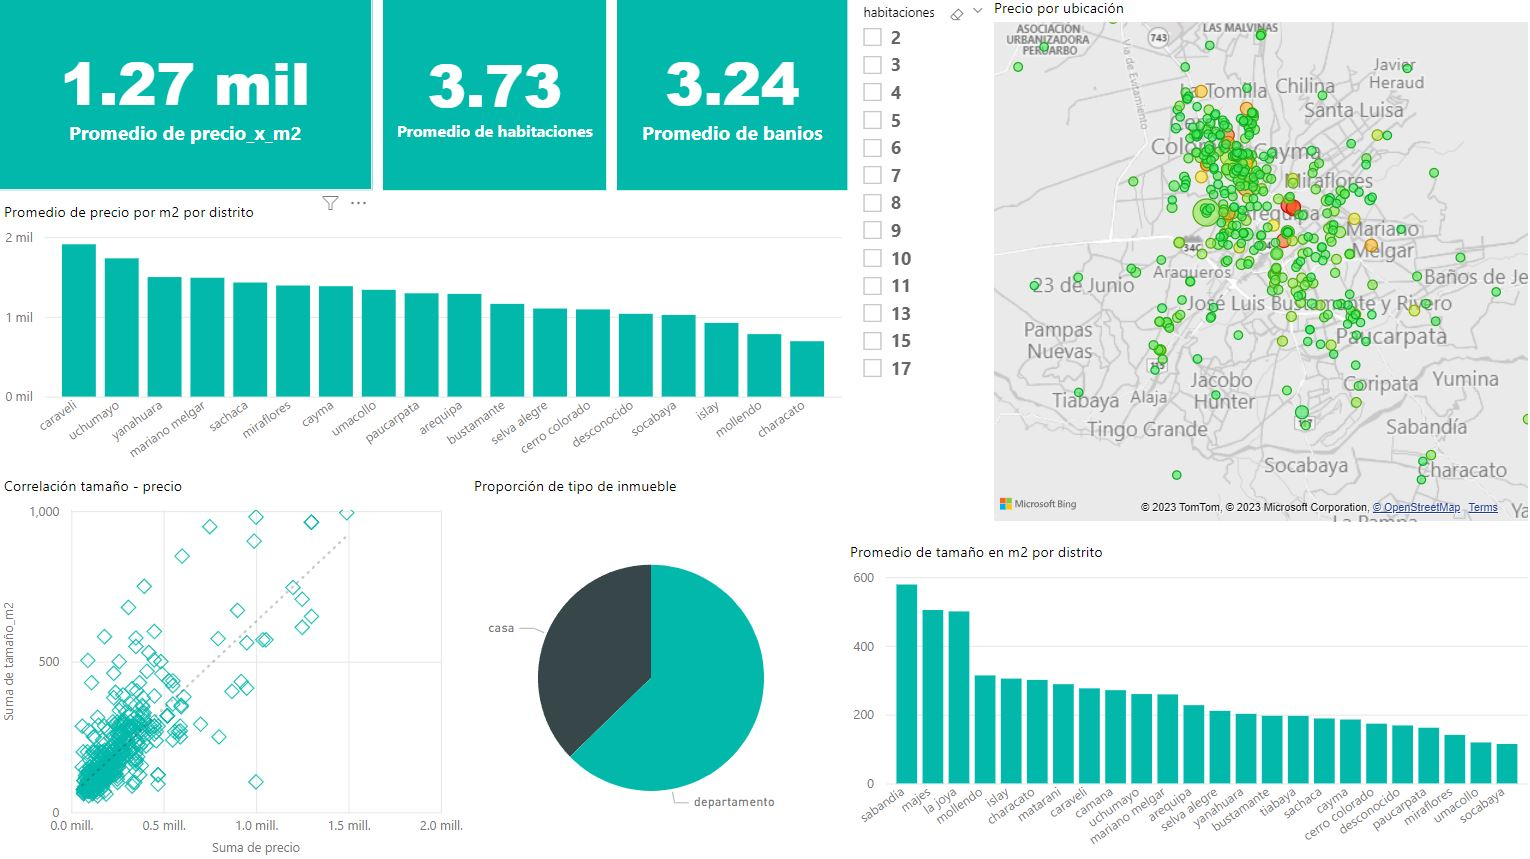

This screenshot's page, from the dashboard's own definition file:
{"tool":"powerbi","page":{"name":"Página 1","canvas":[1280,720],"ordinal":0},"visuals":[{"type":"map","title":"Precio por ubicación","fields":{"Y":["propiedades.latitud"],"X":["propiedades.longitud"],"Size":["Sum(propiedades.precio)"]},"box":[825,0,455,442],"z":0},{"type":"clusteredColumnChart","title":"Promedio de precio por m2 por distrito","fields":{"Category":["propiedades.distrito"],"Y":["Avg(propiedades.precio_x_m2)"]},"box":[0,170,708,228],"z":1000},{"type":"pieChart","title":"Proporción de tipo de inmueble","fields":{"Category":["propiedades.tipo_inmueble"],"Y":["CountNonNull(propiedades.Column1)"]},"box":[392,398,305,322],"z":2000},{"type":"card","fields":{"Values":["Avg(propiedades.precio_x_m2)"]},"box":[0,0,312,161],"z":3000},{"type":"clusteredColumnChart","title":"Promedio de tamaño en m2 por distrito","fields":{"Category":["propiedades.distrito"],"Y":["Avg(propiedades.tamaño_m2)"]},"box":[705,453,575,267],"z":4000},{"type":"scatterChart","title":"Correlación tamaño - precio","fields":{"Y":["Sum(propiedades.tamaño_m2)"],"X":["Sum(propiedades.precio)"],"Category":["propiedades.Column1"]},"box":[0,398,392,322],"z":4001},{"type":"card","fields":{"Values":["Avg(propiedades.habitaciones)"]},"box":[321,0,186,161],"z":4002},{"type":"card","fields":{"Values":["Avg(propiedades.banios)"]},"box":[516,0,192,161],"z":4003},{"type":"slicer","fields":{"Values":["propiedades.habitaciones"]},"box":[708,0,125,335],"z":4004}]}

Visuals, with their boxes in screenshot pixels (x1, y1, x2, y2), scaled from the page's 1280x720 canvas onto the 1530x859 screenshot:
"Precio por ubicación" map: bbox=(986, 0, 1529, 527)
"Promedio de precio por m2 por distrito" clusteredColumnChart: bbox=(0, 203, 846, 475)
"Proporción de tipo de inmueble" pieChart: bbox=(469, 475, 833, 858)
card - Avg(propiedades.precio_x_m2): bbox=(0, 0, 373, 192)
"Promedio de tamaño en m2 por distrito" clusteredColumnChart: bbox=(843, 540, 1529, 858)
"Correlación tamaño - precio" scatterChart: bbox=(0, 475, 469, 858)
card - Avg(propiedades.habitaciones): bbox=(384, 0, 606, 192)
card - Avg(propiedades.banios): bbox=(617, 0, 846, 192)
slicer - propiedades.habitaciones: bbox=(846, 0, 996, 400)
